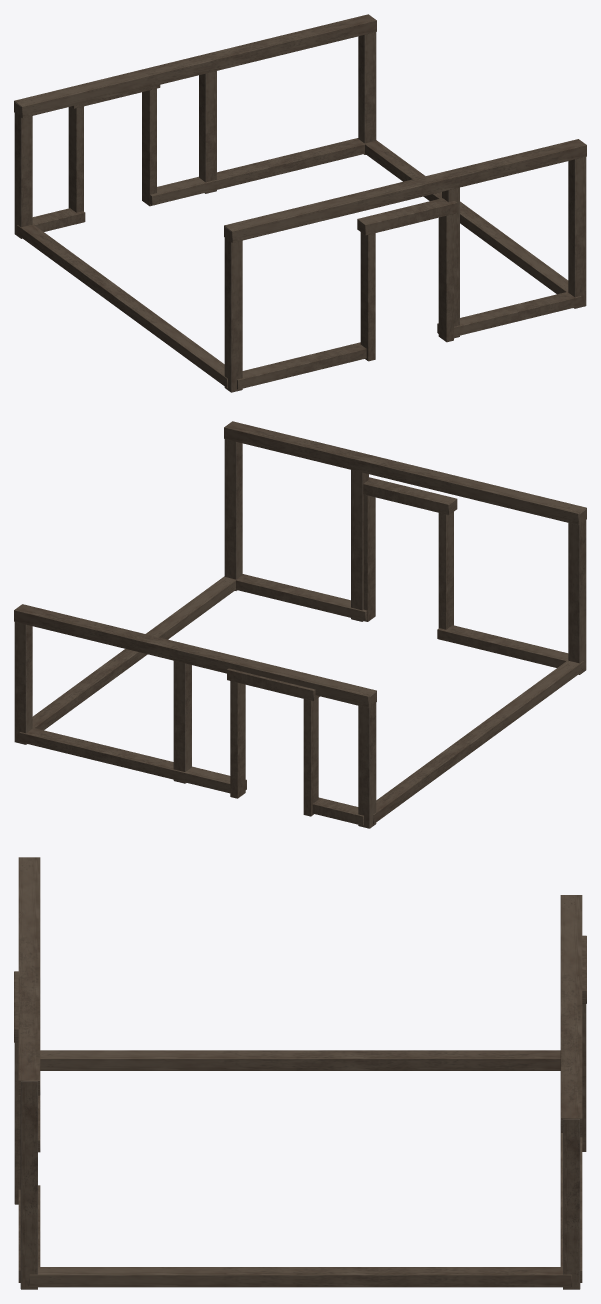
Rendered from BW_FamilyCottageB01_Timber.fbx.
3 renders of one model, top to bottom at view 1: azimuth 30°, elevation 25°; view 2: azimuth 150°, elevation 25°; view 3: azimuth 270°, elevation 25°, orthographic. The views are drawn at different scales.
Parts seen in each view (by area): view 1: BW_FamilyCottageB01_Timber; view 2: BW_FamilyCottageB01_Timber; view 3: BW_FamilyCottageB01_Timber.
Boxes of the visible parts, left/top/right/bottom form: BW_FamilyCottageB01_Timber: left=14, top=14, right=586, bottom=392; BW_FamilyCottageB01_Timber: left=14, top=421, right=586, bottom=828; BW_FamilyCottageB01_Timber: left=14, top=857, right=586, bottom=1289.
Bounding box in the file's own units: 7.06 × 3.06 × 7.61.
